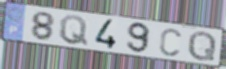4: (93, 18, 118, 51)
8: (29, 11, 56, 41)
9: (125, 21, 153, 55)
C: (158, 27, 183, 57)
Q: (186, 30, 218, 62), (59, 14, 89, 47)
